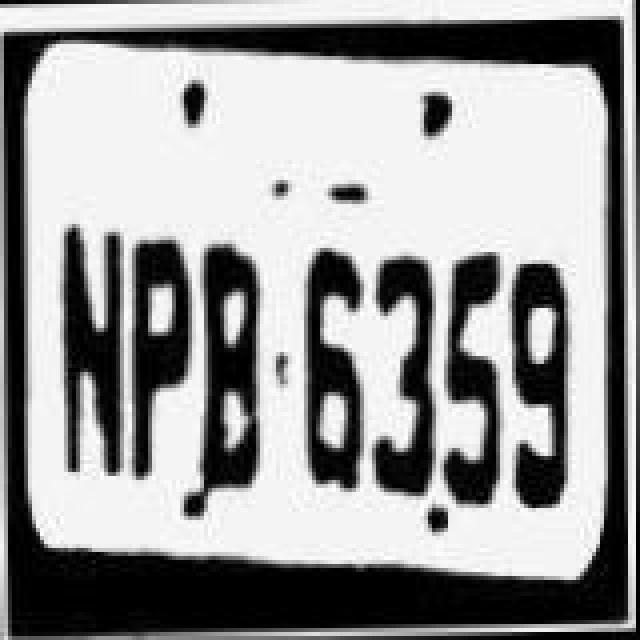3: (370, 252, 446, 500)
5: (438, 240, 514, 512)
6: (290, 248, 370, 492)
9: (508, 254, 580, 514)
B: (198, 240, 278, 496)
N: (54, 224, 126, 488)
P: (120, 232, 196, 492)
